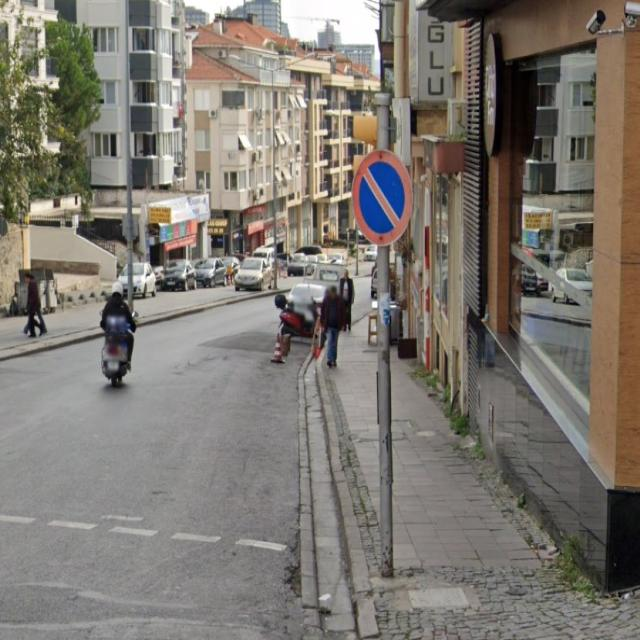parkyasak: (353, 150, 413, 246)
